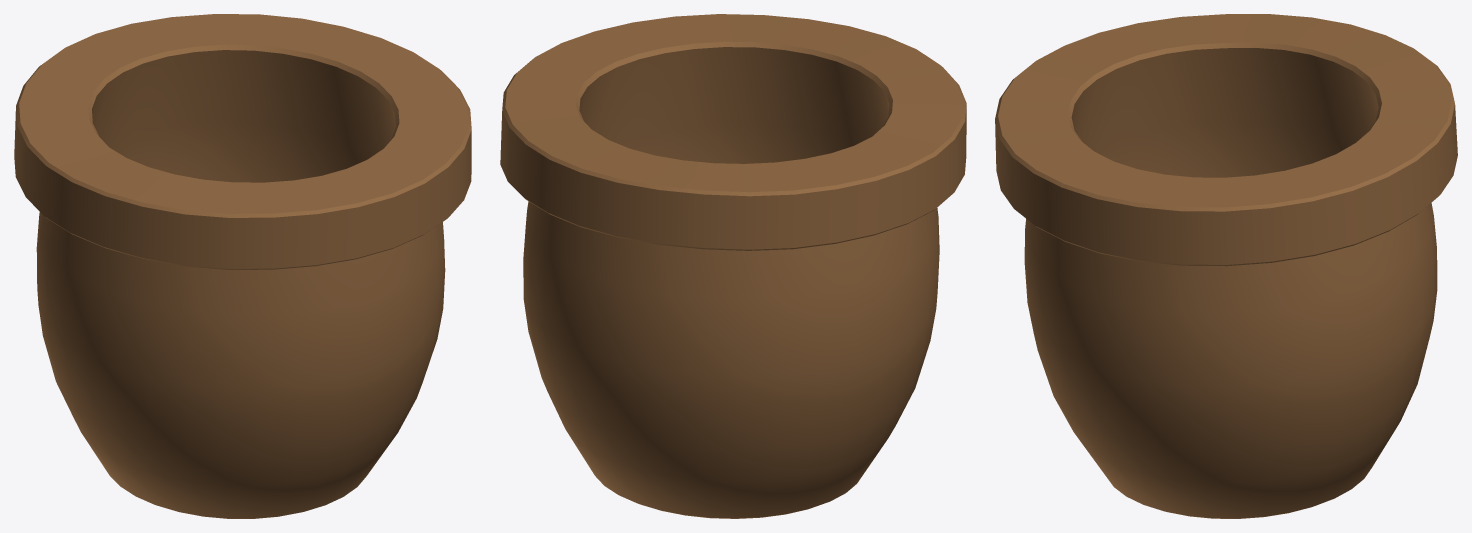
The model's file is Pot4.fbx.
The picture shows the model from 3 angles, left to right: view 1: azimuth 30°, elevation 25°; view 2: azimuth 150°, elevation 25°; view 3: azimuth 270°, elevation 25°; orthographic projection.
Visible parts, largest first — view 1: Pot4.001; view 2: Pot4.001; view 3: Pot4.001.
Boxes of the visible parts, x1,y1,x2,y2 form: Pot4.001: (14,14,471,518); Pot4.001: (500,14,966,518); Pot4.001: (995,14,1457,518).
Size of the model in its own units: 58.05 by 51.02 by 58.18.
Materials: 1 (1 with a texture image).
